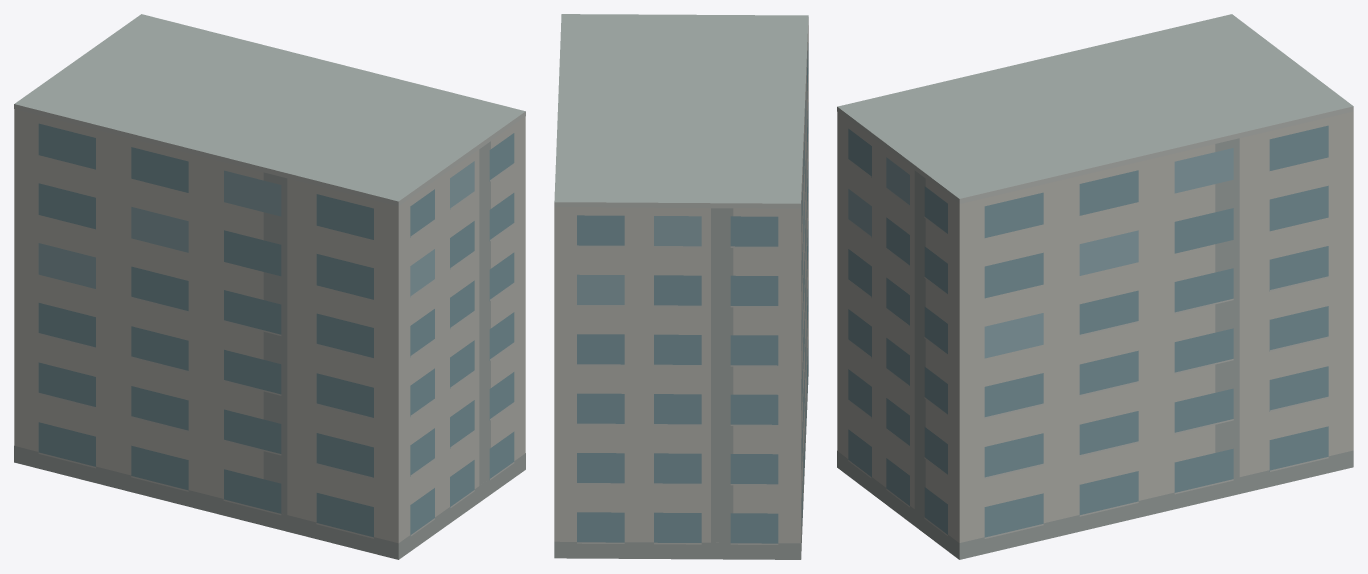
File: survey-upis-32703721.glb
3 views of the same model, side by side, from view 1: azimuth 30°, elevation 25°; view 2: azimuth 150°, elevation 25°; view 3: azimuth 270°, elevation 25° (orthographic).
Parts seen in each view (by area): view 1: survey-upis-32703721.tmp; view 2: survey-upis-32703721.tmp; view 3: survey-upis-32703721.tmp.
Part boxes in pixels (bbox=[...]): survey-upis-32703721.tmp: bbox=[14, 14, 525, 559]; survey-upis-32703721.tmp: bbox=[554, 14, 808, 559]; survey-upis-32703721.tmp: bbox=[837, 14, 1353, 559].
Size of the model in its own units: 18.91 by 17.2 by 22.31.
